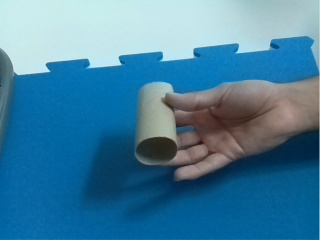rollo papel: (134, 81, 176, 167)
